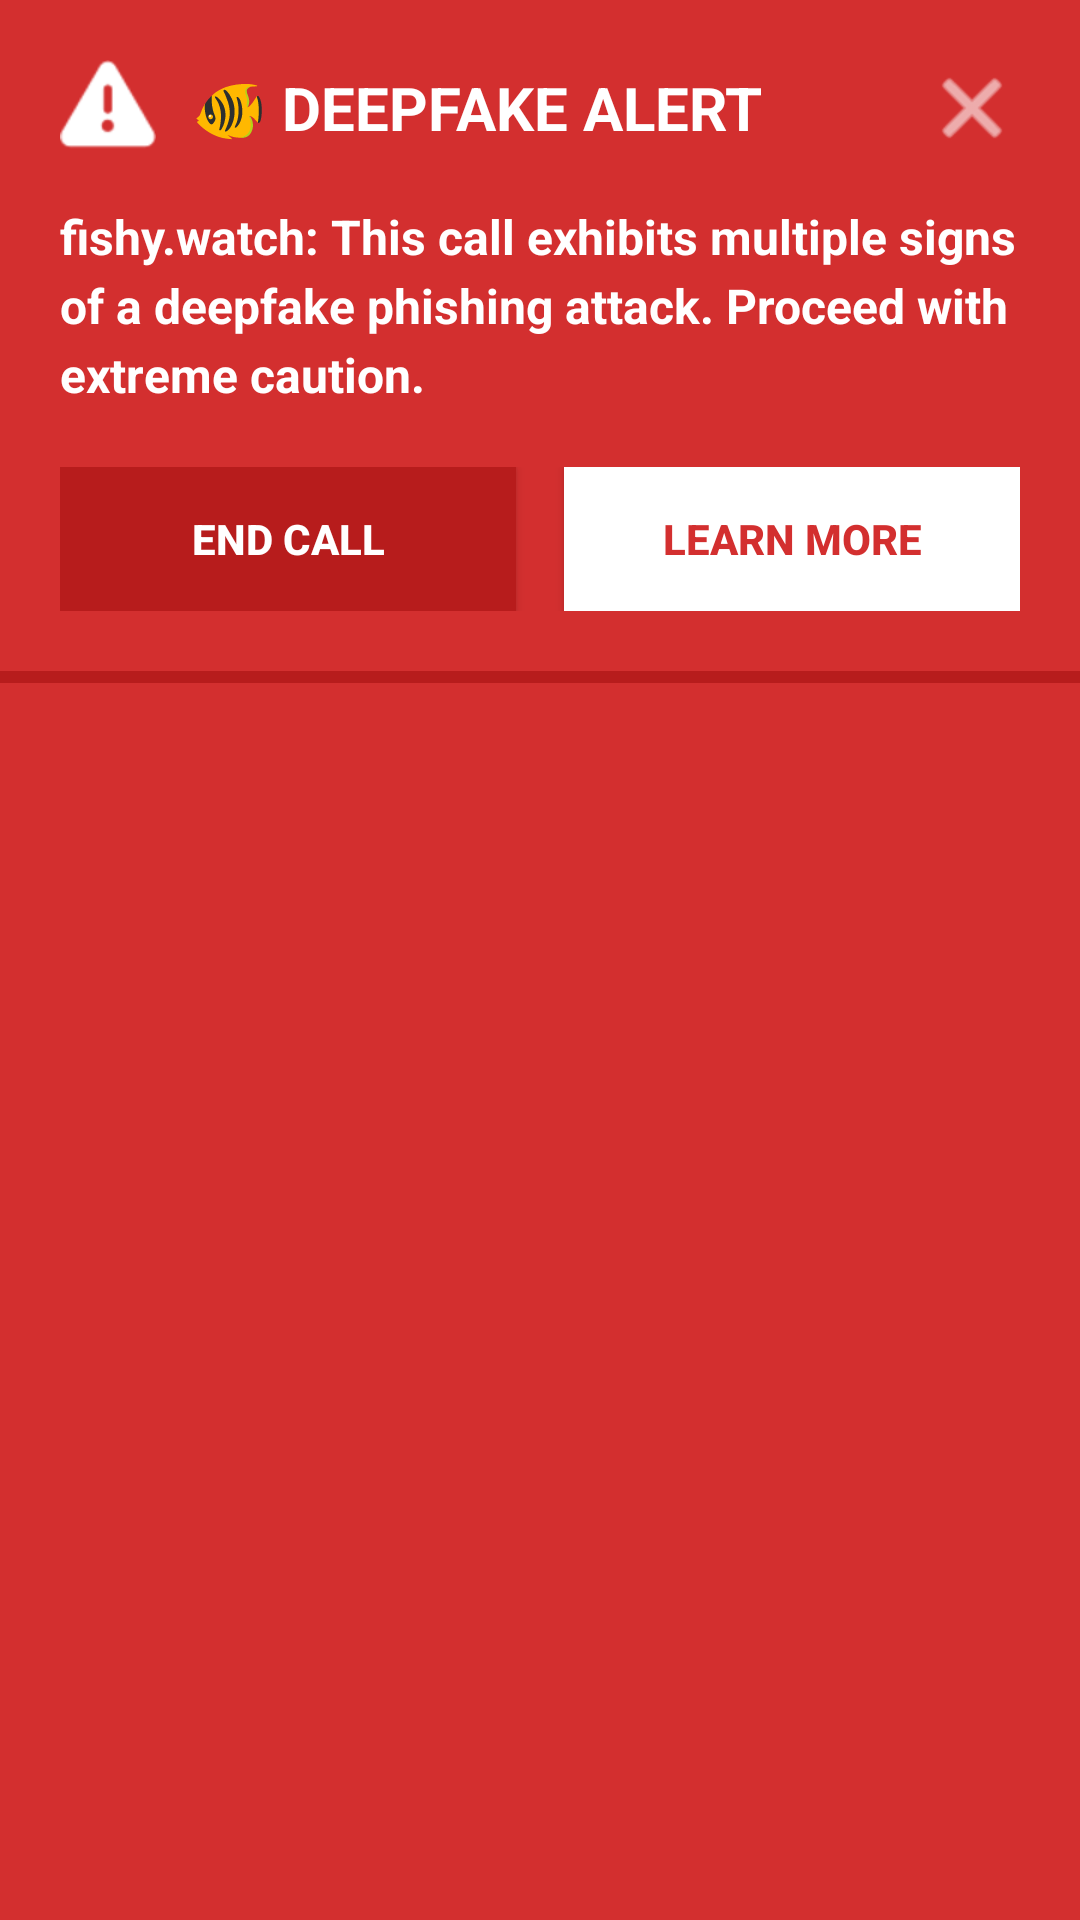

Screen size 1080×1920. Icon name, then its center in pixels as [x,y]:
Close alert: [972,108]
